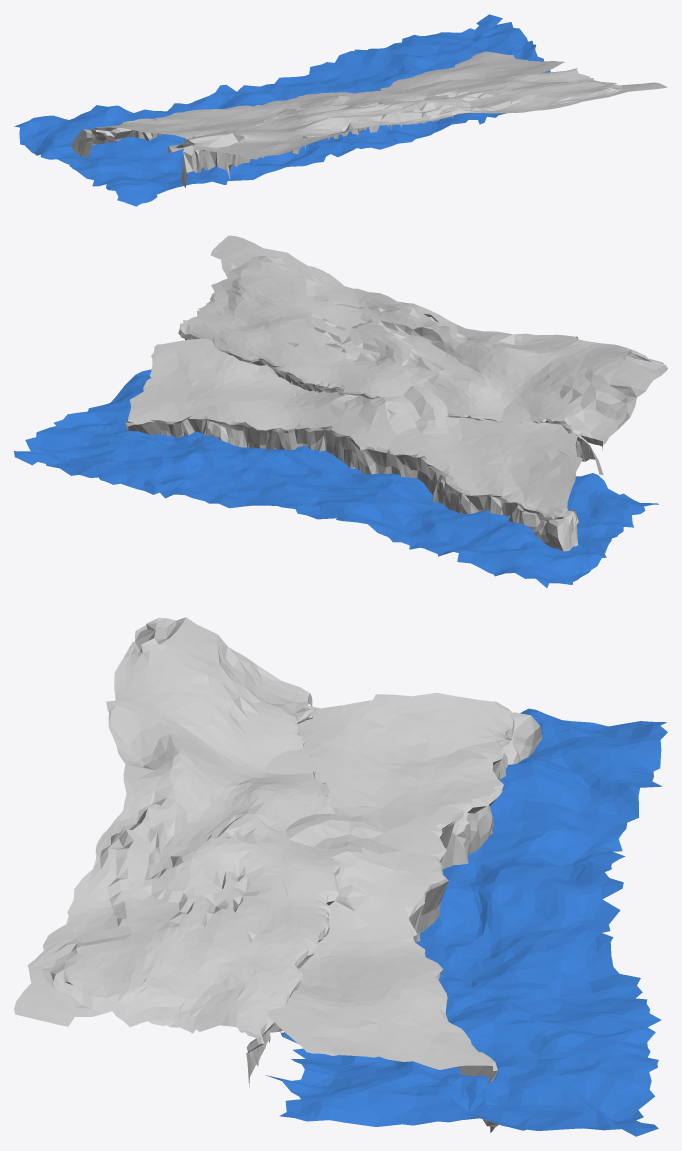
File: ground.FBX
3 renders of one model, top to bottom at view 1: azimuth 30°, elevation 25°; view 2: azimuth 150°, elevation 25°; view 3: azimuth 270°, elevation 25°, orthographic. The views are drawn at different scales.
Visible parts, largest first — view 1: water_water_0, grnd_grnd_001, slope_slope_0; view 2: grnd_grnd_001, water_water_0, slope_slope_0; view 3: grnd_grnd_001, water_water_0, slope_slope_0.
Part boxes in pixels (bbox=[...]): water_water_0: bbox=[14, 14, 550, 206]; grnd_grnd_001: bbox=[90, 51, 667, 159]; slope_slope_0: bbox=[69, 116, 453, 187]; grnd_grnd_001: bbox=[125, 235, 667, 520]; water_water_0: bbox=[14, 369, 658, 588]; slope_slope_0: bbox=[125, 336, 603, 551]; grnd_grnd_001: bbox=[14, 617, 514, 1070]; water_water_0: bbox=[265, 708, 667, 1136]; slope_slope_0: bbox=[246, 709, 542, 1132].
Size of the model in its own units: 10608 by 2377 by 6956.
